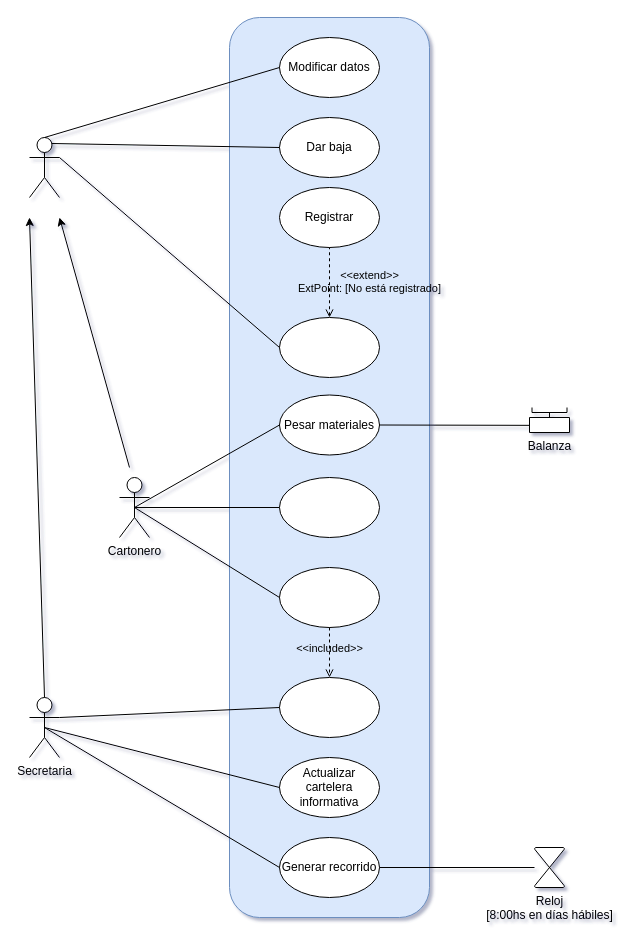
This 636x947 diagram has some shape labels left out. The centre of each missing label's shape, as x and y in pixels:
Calcular comisiones: pixel 329 707
Finalizar jornada: pixel 329 507
Iniciar sesión: pixel 329 347
Usuario: pixel 44 167
Ver saldos: pixel 329 597
